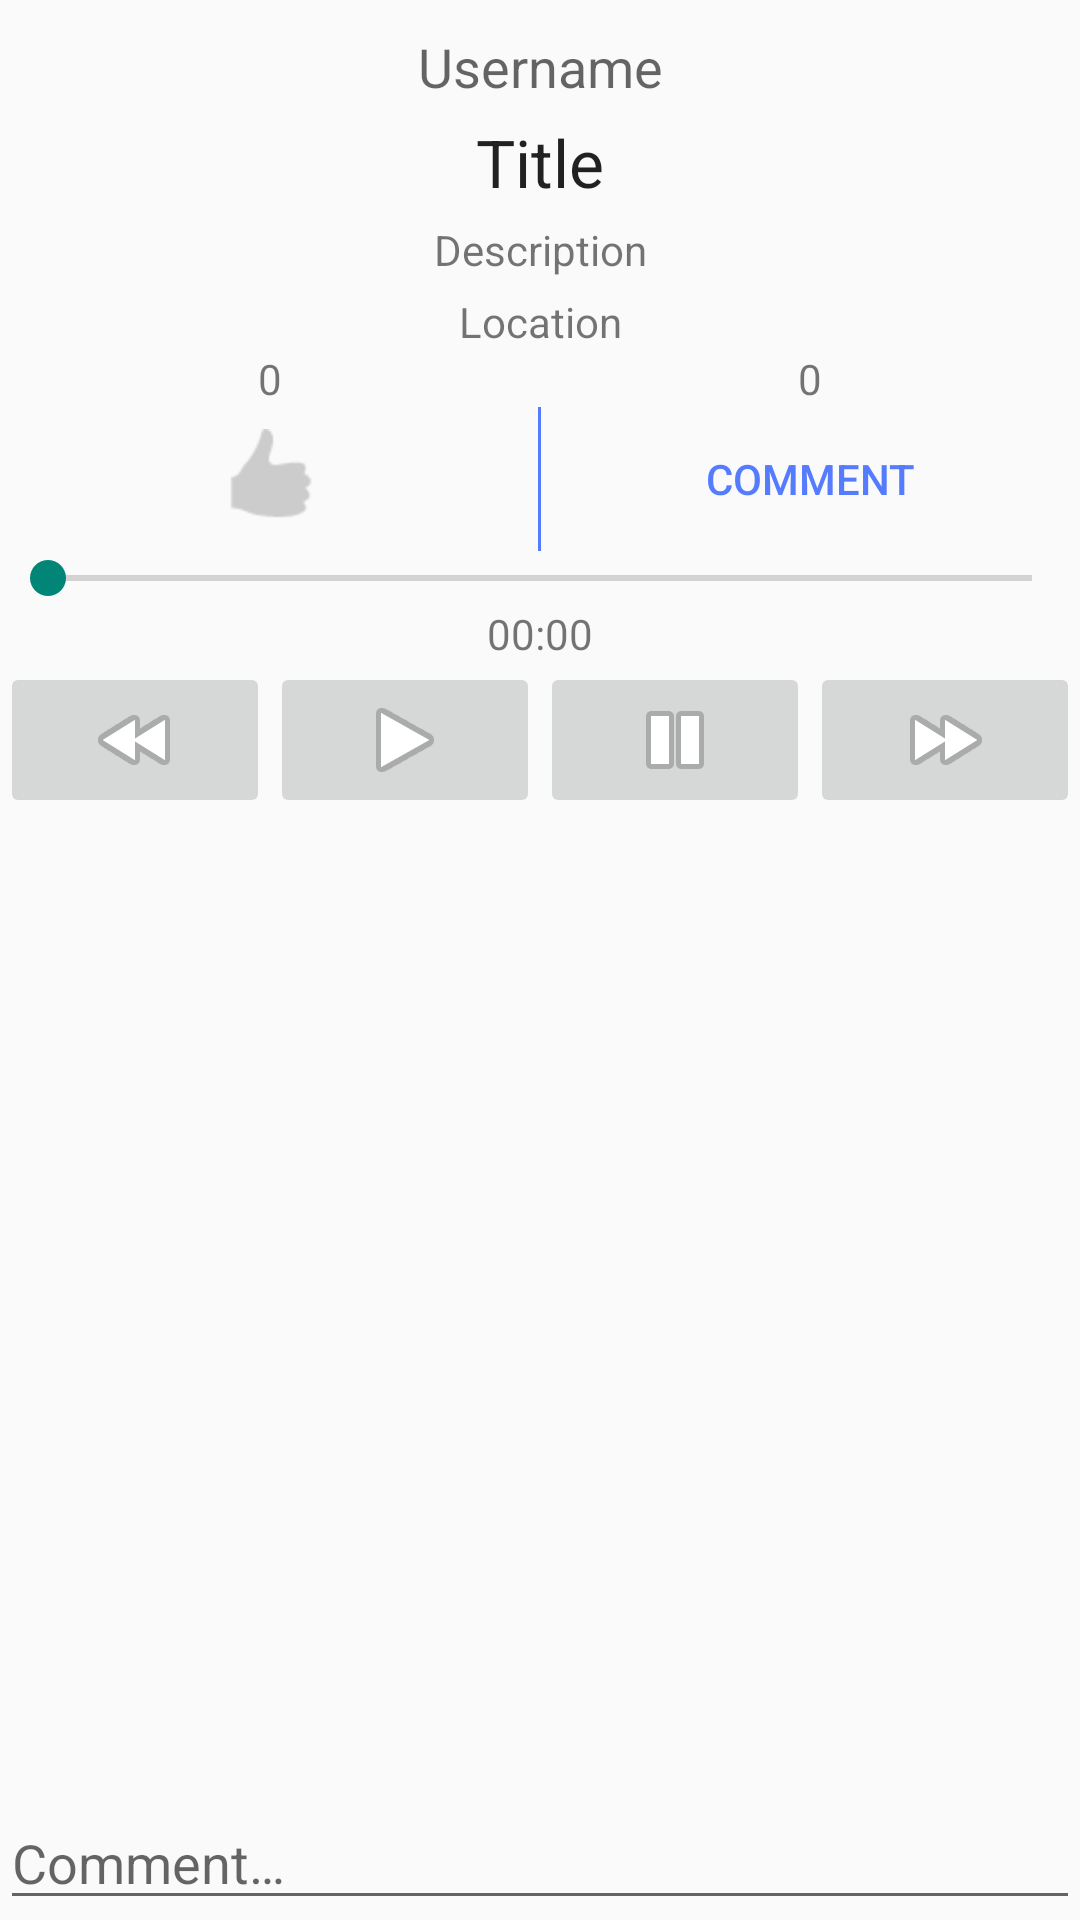

Icons on this 1080 x 1920 Android screen, each with the point to tap as [x,y]:
not liked: [271,473]
pause: [675,740]
play: [405,740]
rew: [135,740]
